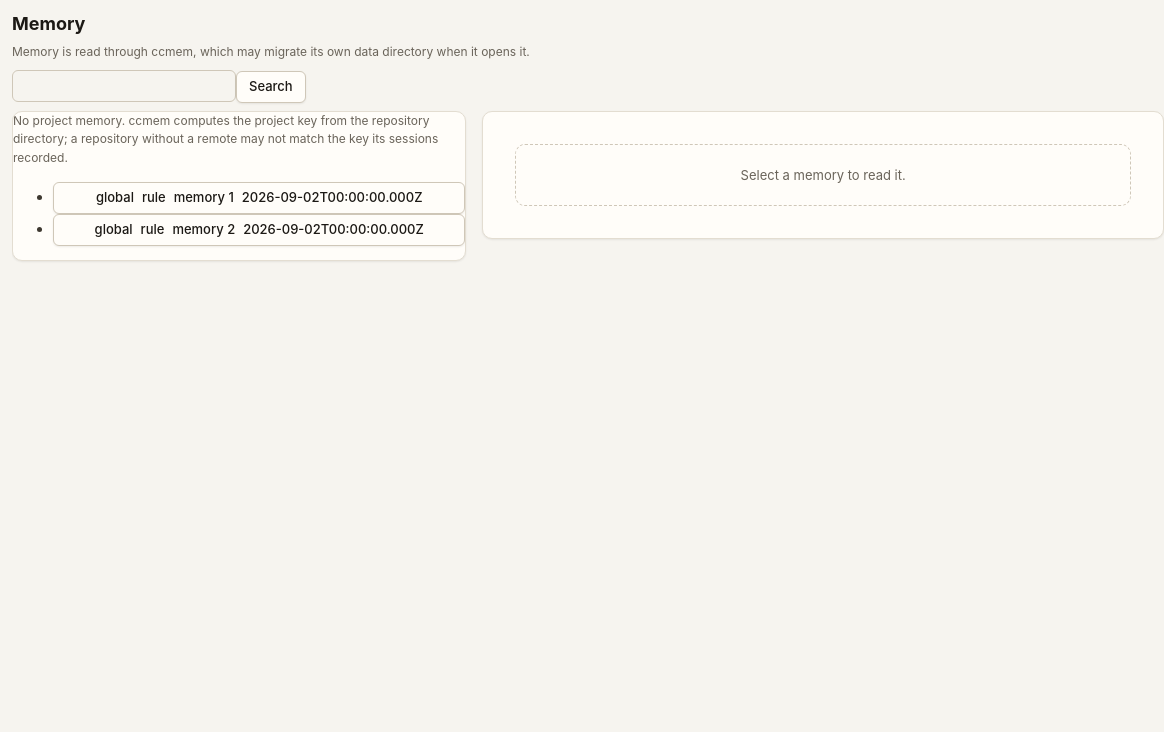
Test: Memory split layout (spec §9.2 item 2) › scrolls the detail into view when a memory is selected, and not before
Click the 1st button with class "memory-row" at coordinates (259, 198), box top-left (53, 182), bottom-right (465, 214)
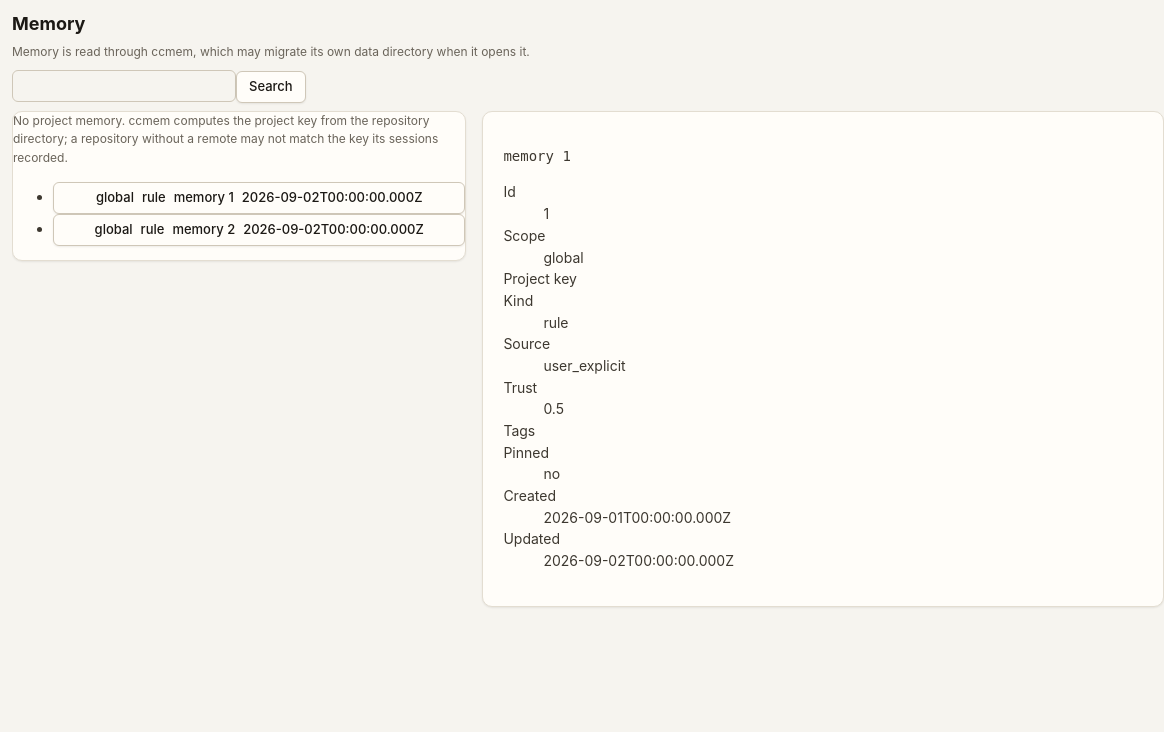
Check: the element with class "split-detail" is shown, box top-left (482, 111), bottom-right (1163, 607)
Check: the text with test id "memory-content" is shown, box top-left (503, 148), bottom-right (571, 164)
